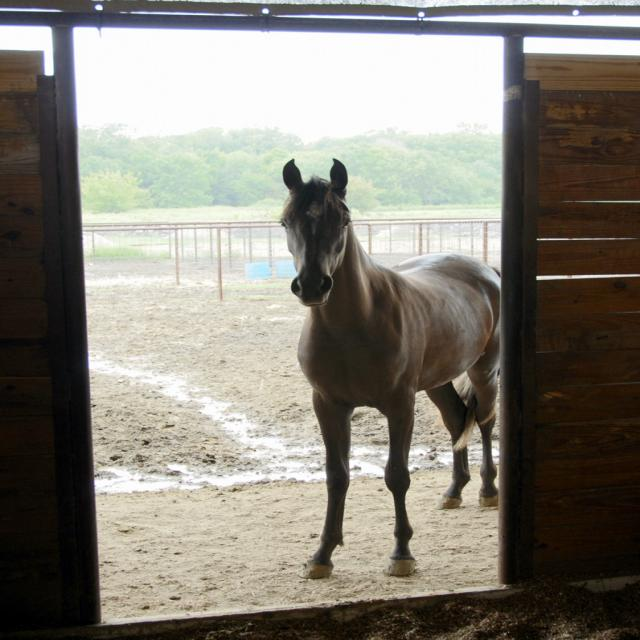Horse: (279, 160, 509, 582)
